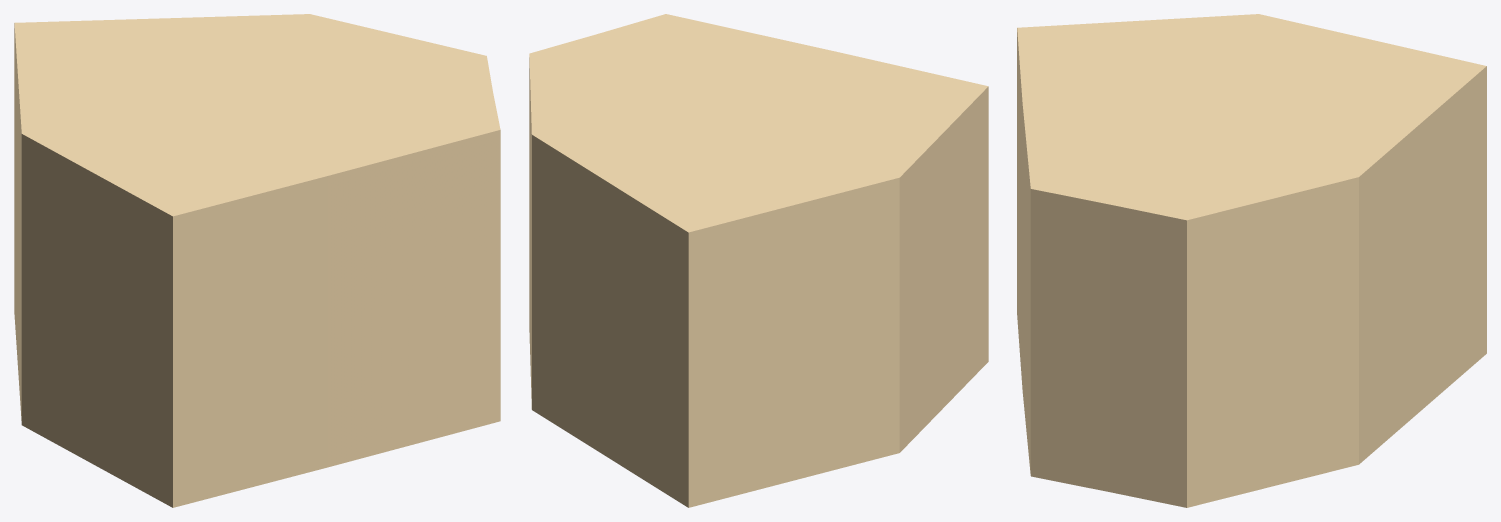
Rendered from flat_rock_12.fbx.
3 renders of one model, left to right at view 1: azimuth 30°, elevation 25°; view 2: azimuth 150°, elevation 25°; view 3: azimuth 270°, elevation 25°, orthographic. The views are drawn at different scales.
Parts seen in each view (by area): view 1: flat_rock_12; view 2: flat_rock_12; view 3: flat_rock_12.
Part boxes in pixels (x1,y1,x2,y2): flat_rock_12: (14,14,500,507); flat_rock_12: (529,14,988,507); flat_rock_12: (1017,14,1486,507).
Size of the model in its own units: 31.65 by 20.57 by 30.44.
